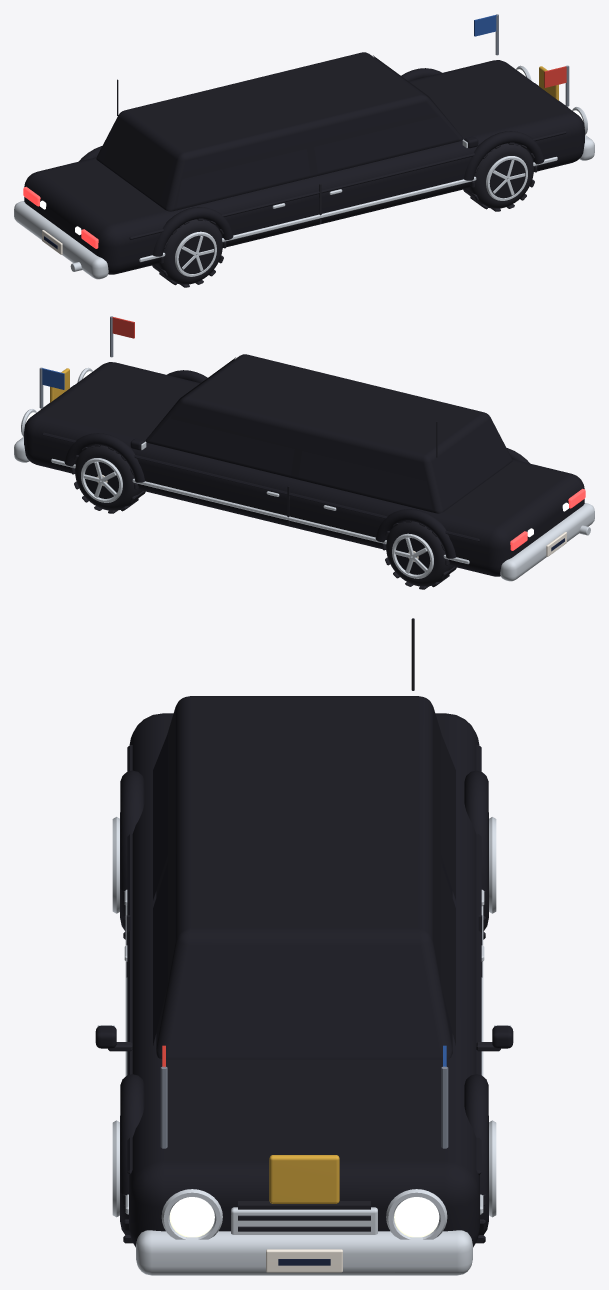
File: mayor_limo.glb
3 renders of one model, top to bottom at view 1: azimuth 30°, elevation 25°; view 2: azimuth 150°, elevation 25°; view 3: azimuth 270°, elevation 25°, orthographic. The views are drawn at different scales.
Parts seen in each view (by area): view 1: mayor_limo; view 2: mayor_limo; view 3: mayor_limo.
Boxes of the visible parts, bbox=[...] form: mayor_limo: bbox=[14, 14, 594, 287]; mayor_limo: bbox=[14, 316, 594, 589]; mayor_limo: bbox=[95, 618, 513, 1275].
Bounding box in the file's own units: 6.74 × 1.94 × 2.38.
Materials: 1 (1 with a texture image).
